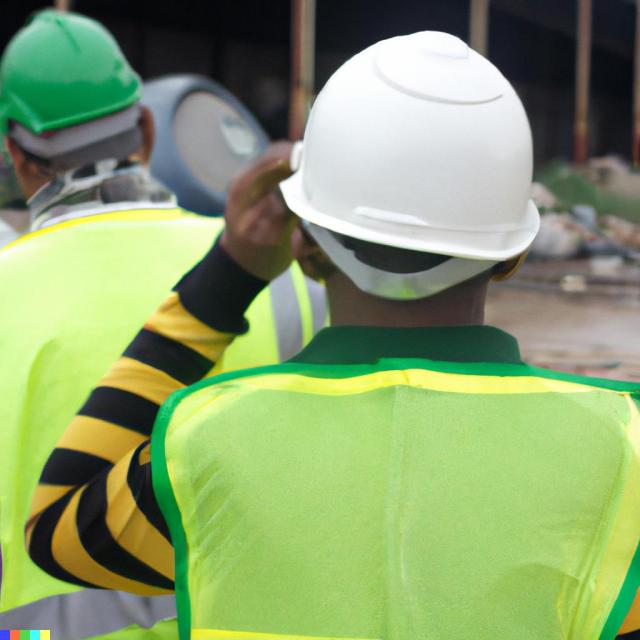Reflective-Jacket: (107, 333, 640, 637), (0, 194, 311, 634)
Safety-Helmet: (280, 31, 549, 268), (0, 6, 151, 146)
